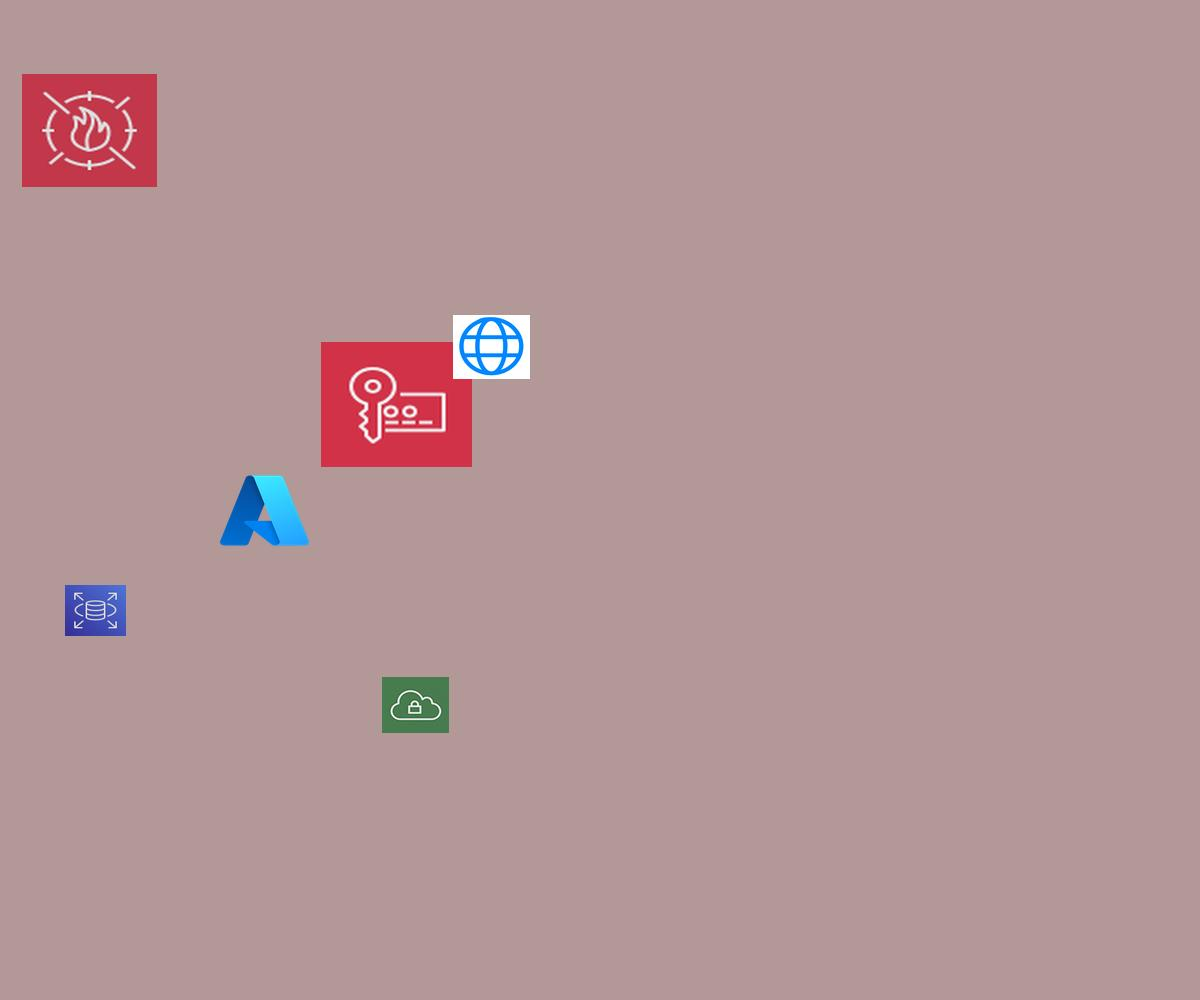AWS-Key-Management-Service: (321, 342, 472, 467)
AWS-Private_vpc: (382, 677, 449, 733)
AWS-RDS: (65, 585, 126, 636)
AWS-WAF: (22, 74, 157, 187)
Azure_http: (453, 315, 530, 379)
Azure_services: (216, 470, 313, 551)
